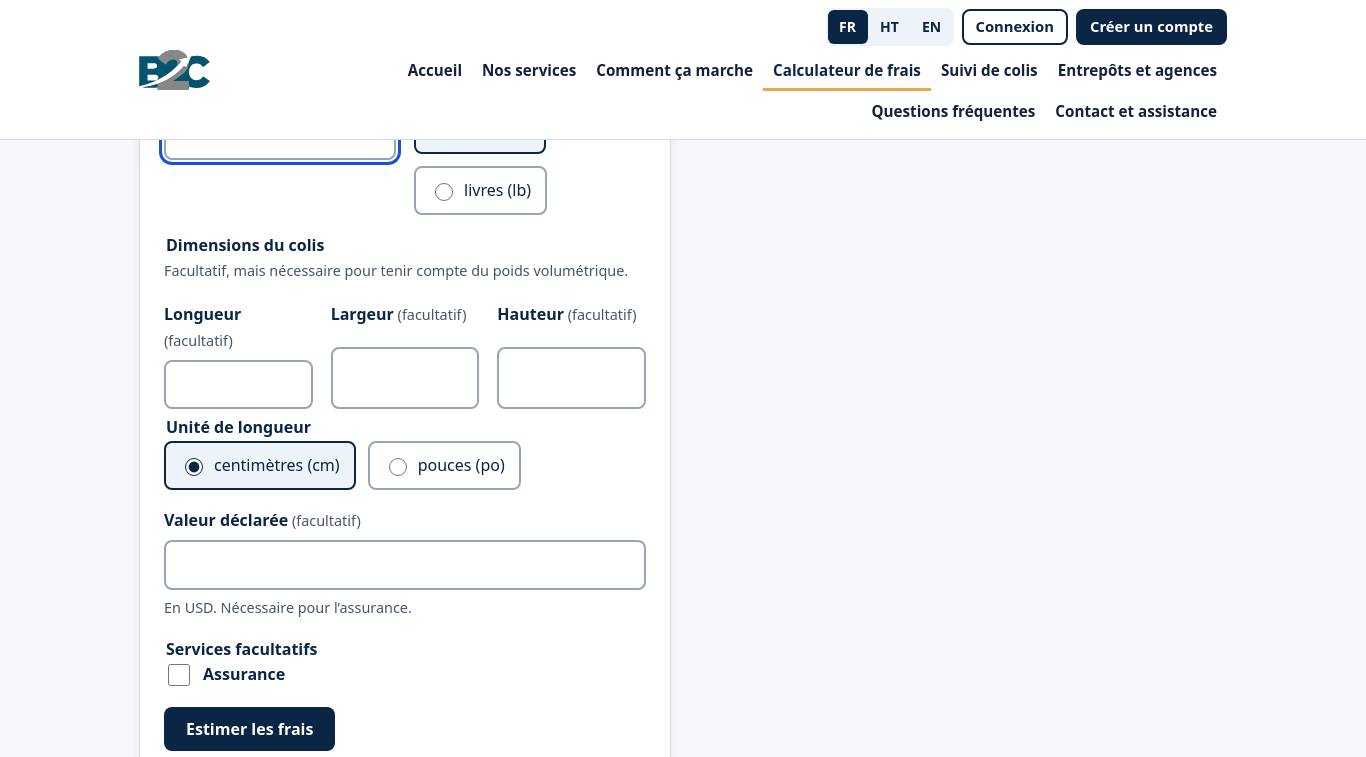
calculateur de frais › transmet dimensions, valeur déclarée et service facultatif choisi
Earlier steps of the test are not shown.
(page scrolled)
Type "40" into the field labelled "Longueur (facultatif)" at (238, 384), box x1=164 y1=360 x2=313 y2=409
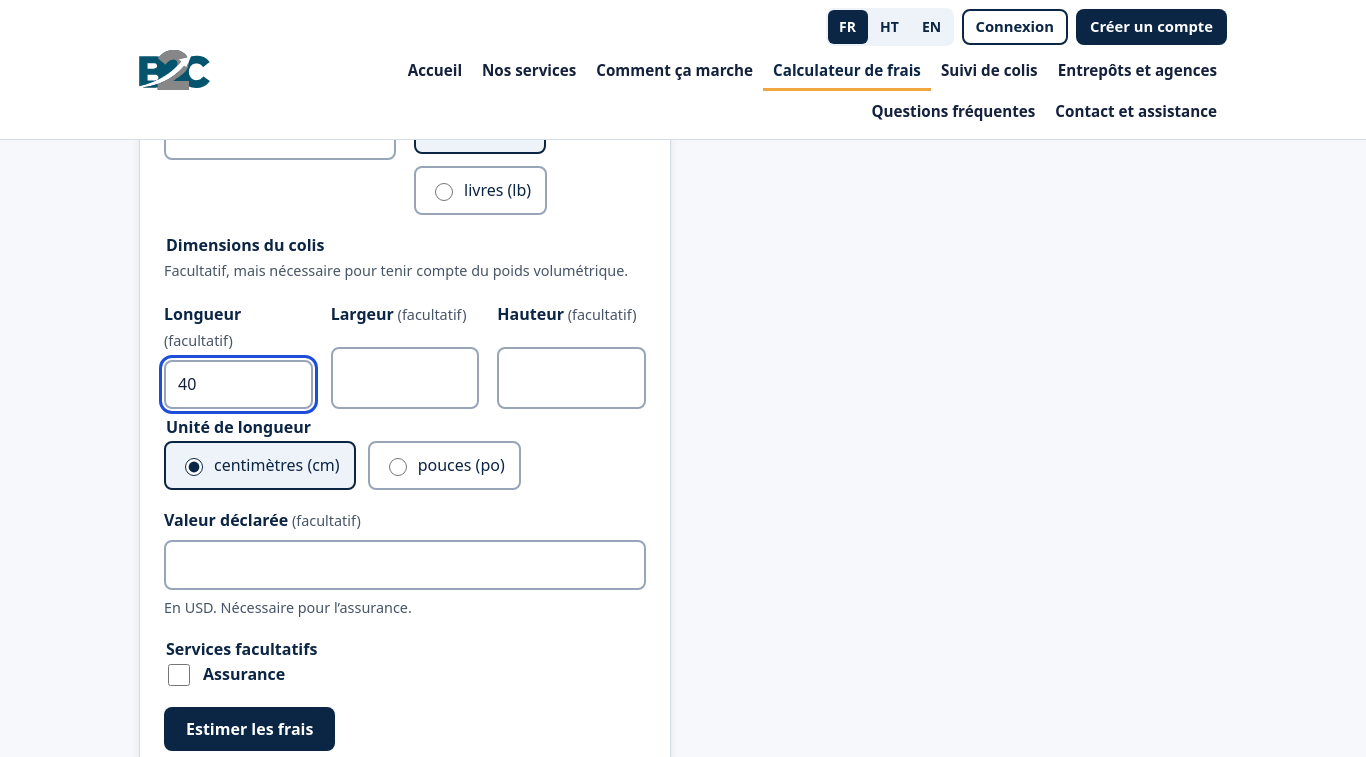
Type "30" into the field labelled "Largeur (facultatif)" at (405, 378), box x1=331 y1=347 x2=479 y2=409
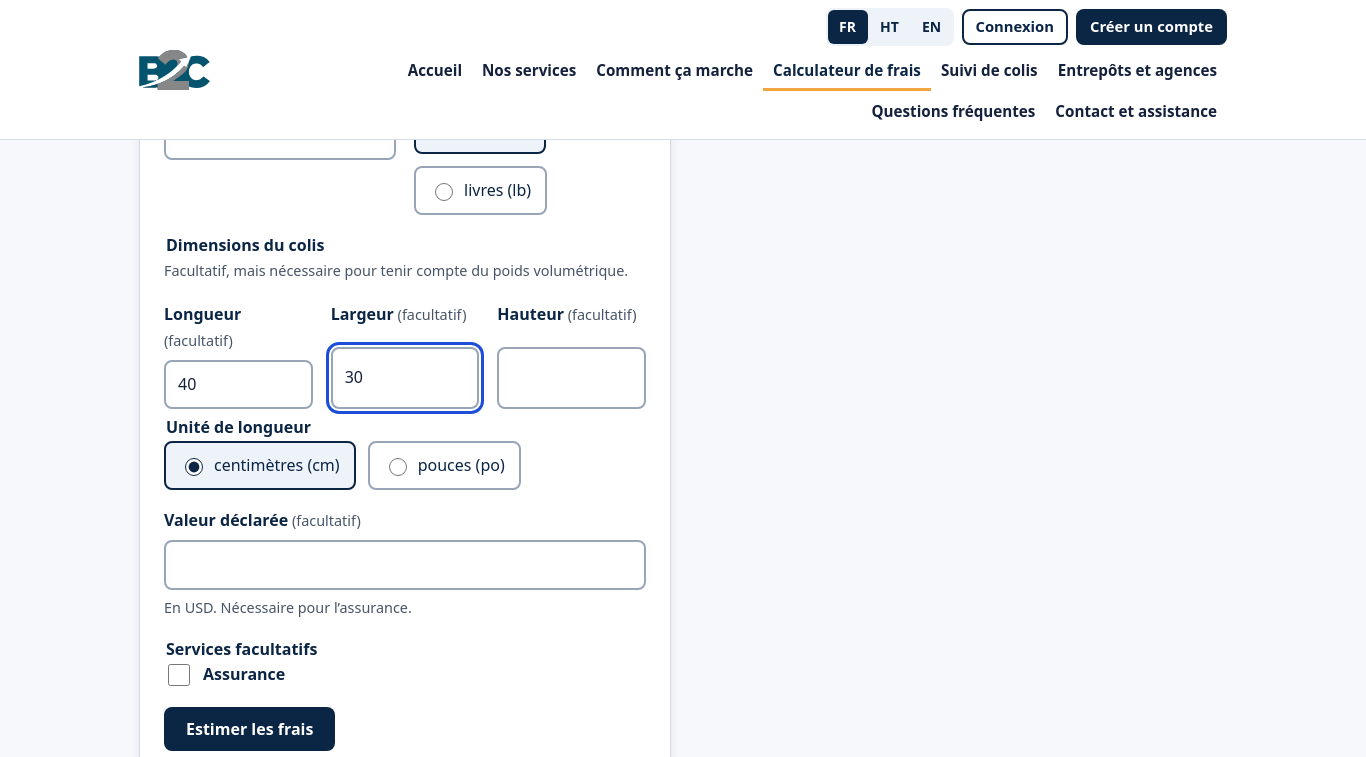
Type "20" into the field labelled "Hauteur (facultatif)" at (572, 378), box x1=497 y1=347 x2=646 y2=409
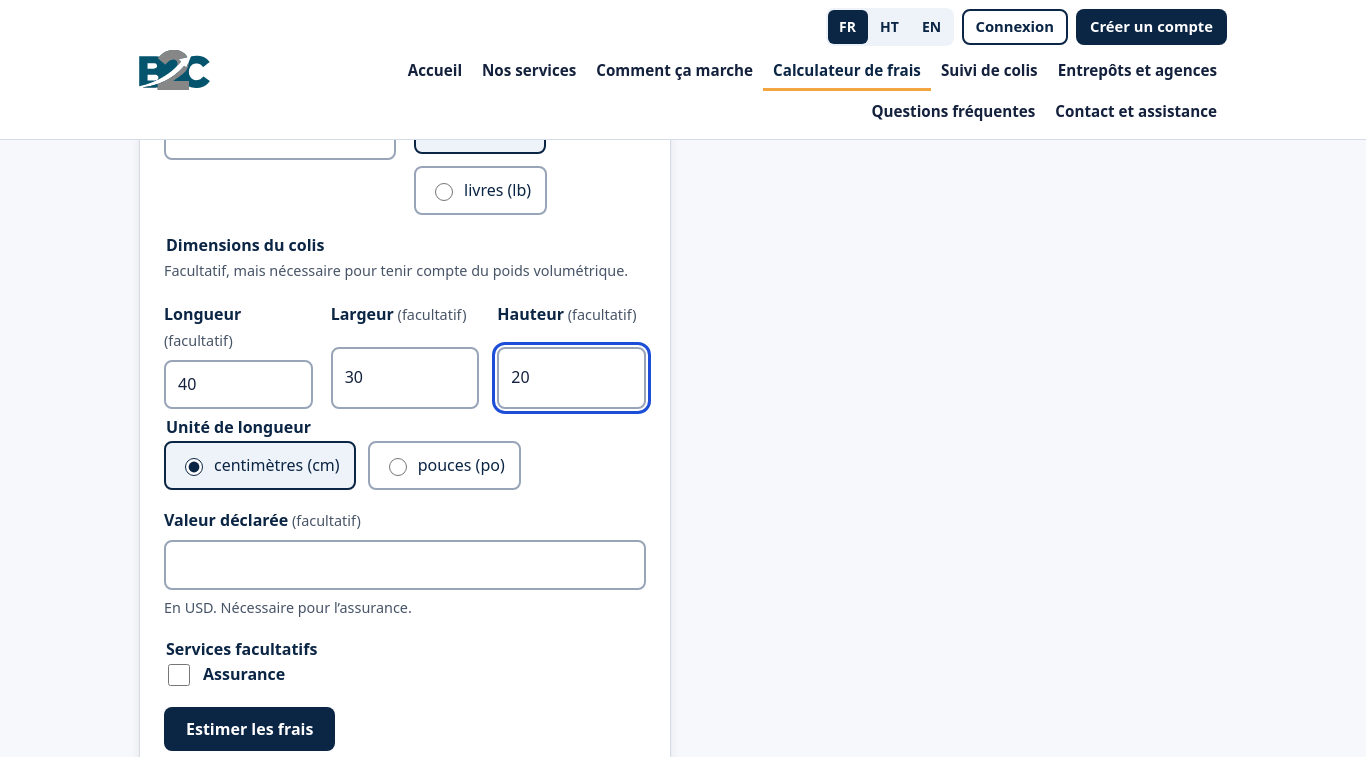
Type "100" into the field labelled "Valeur déclarée (facultatif)" at (405, 565), box x1=164 y1=540 x2=646 y2=590
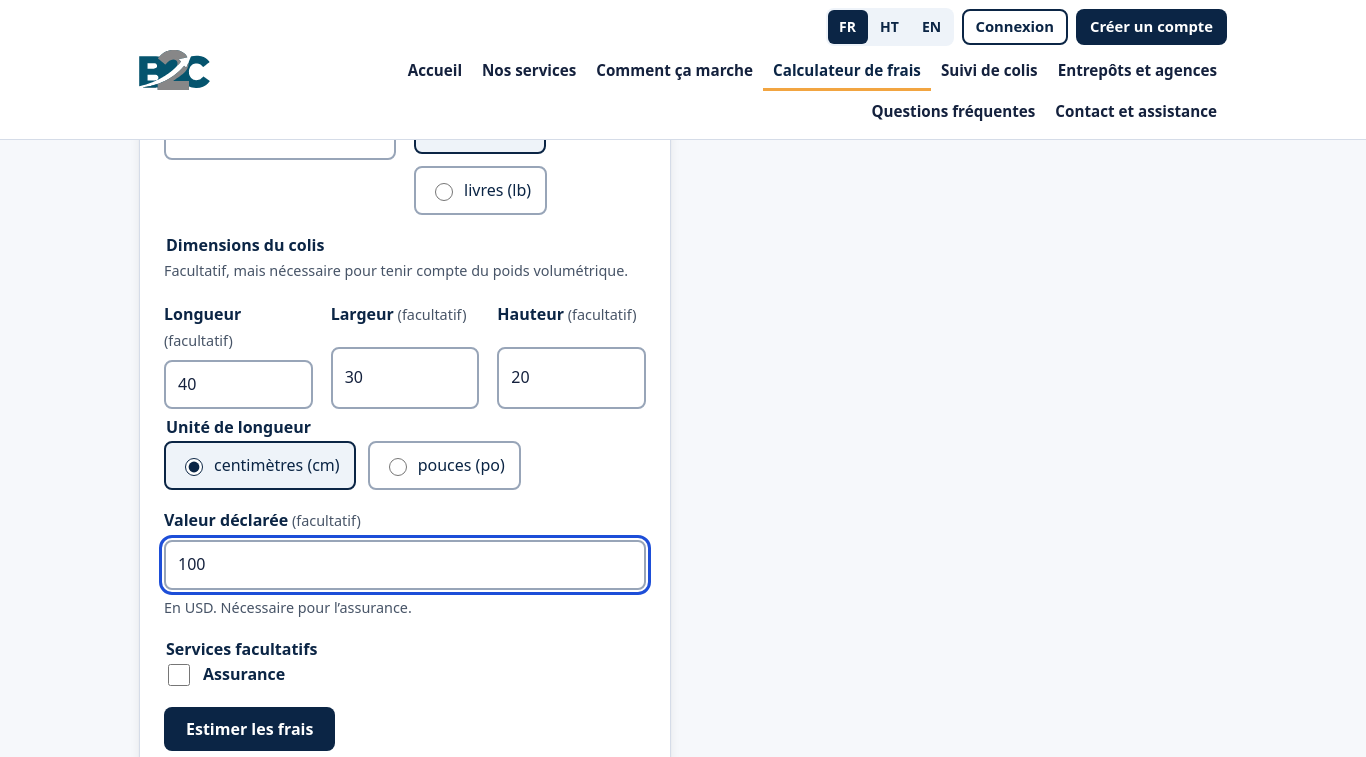
Click the checkbox labelled "Assurance" at (179, 675), box x1=168 y1=664 x2=190 y2=686
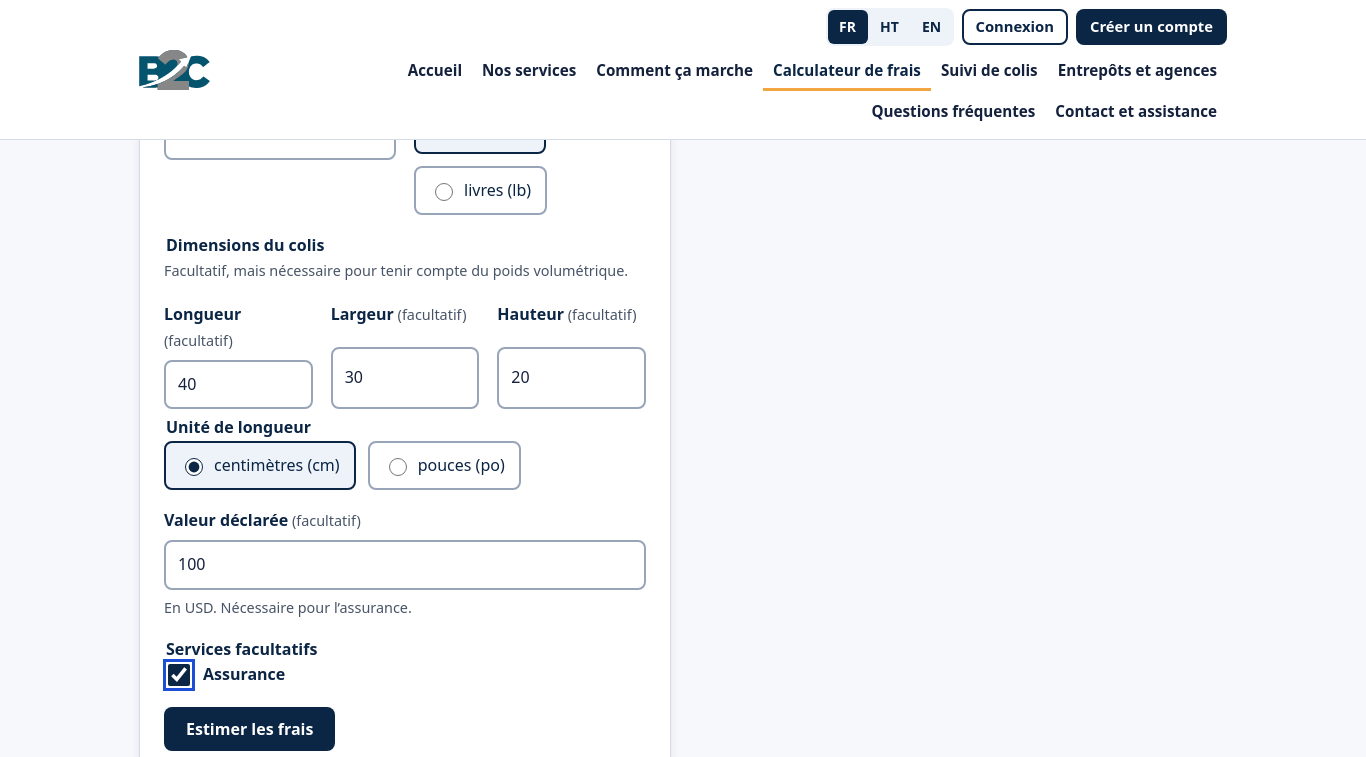
Click the button "Estimer les frais" at (250, 729), box x1=164 y1=707 x2=335 y2=751
(page scrolled)
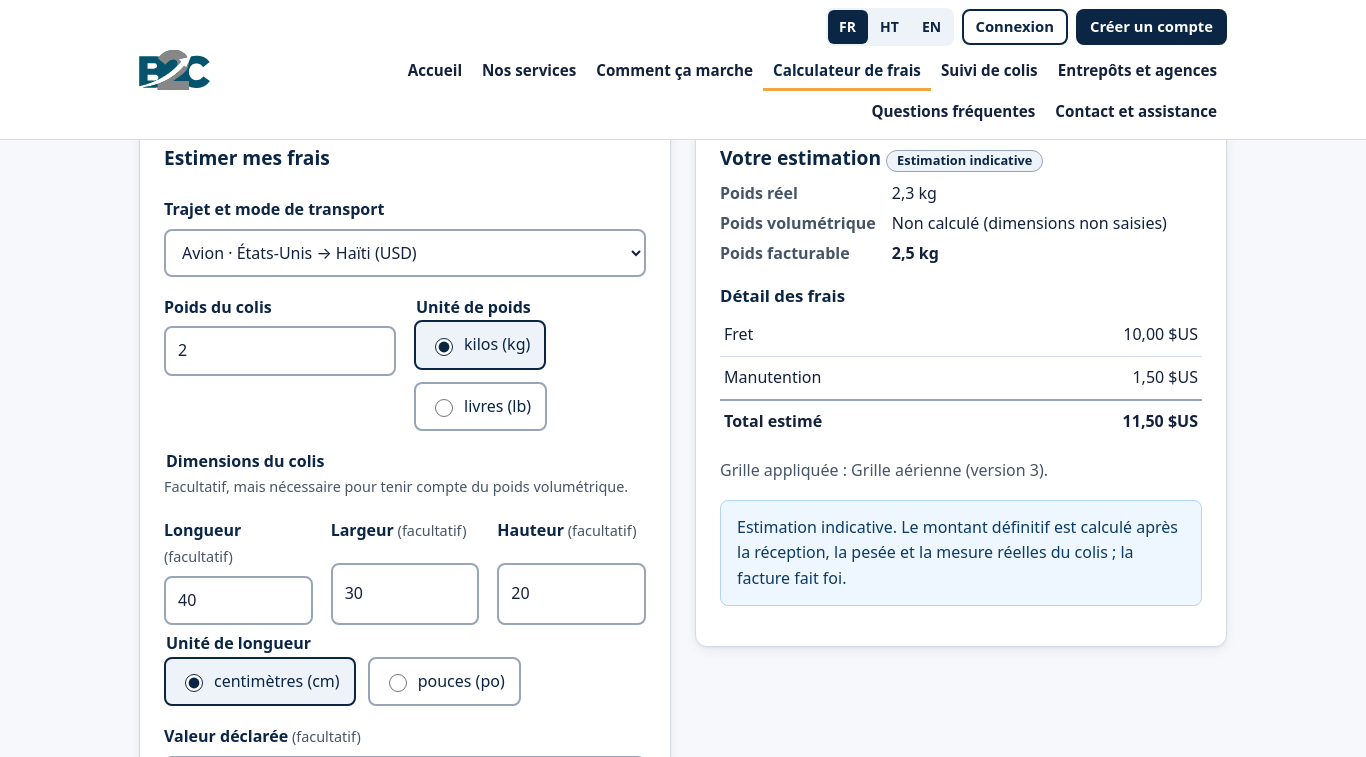
Expected: the element with test id "quote-result" is shown, x1=695 y1=122 x2=1227 y2=648
